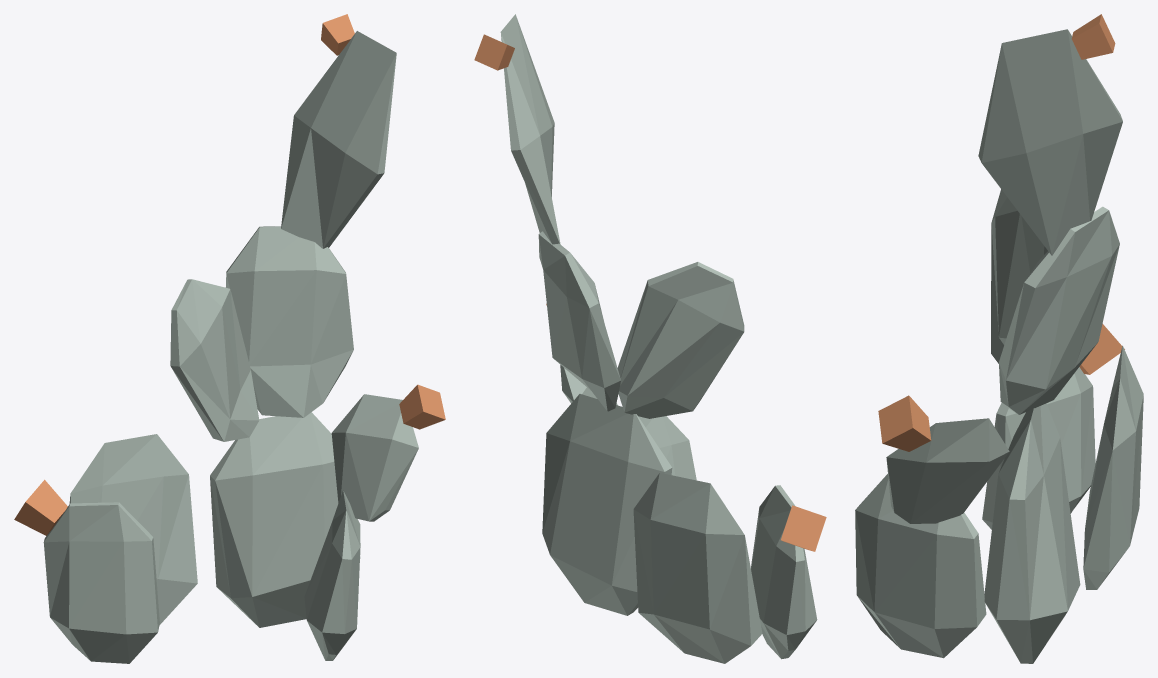
Rendered from OpuntiaAciculata.glb.
3 renders of one model, left to right at view 1: azimuth 30°, elevation 25°; view 2: azimuth 150°, elevation 25°; view 3: azimuth 270°, elevation 25°, orthographic. The views are drawn at different scales.
Visible parts, largest first — view 1: Trunk, Crown; view 2: Trunk, Crown; view 3: Trunk, Crown.
Boxes of the visible parts, <box> form: Trunk: <box>43,31,418,663</box>; Crown: <box>14,14,445,535</box>; Trunk: <box>500,14,817,663</box>; Crown: <box>474,34,826,551</box>; Trunk: <box>855,29,1143,663</box>; Crown: <box>878,14,1124,451</box>.
Size of the model in its own units: 0.6488 by 1.01 by 0.3871.
